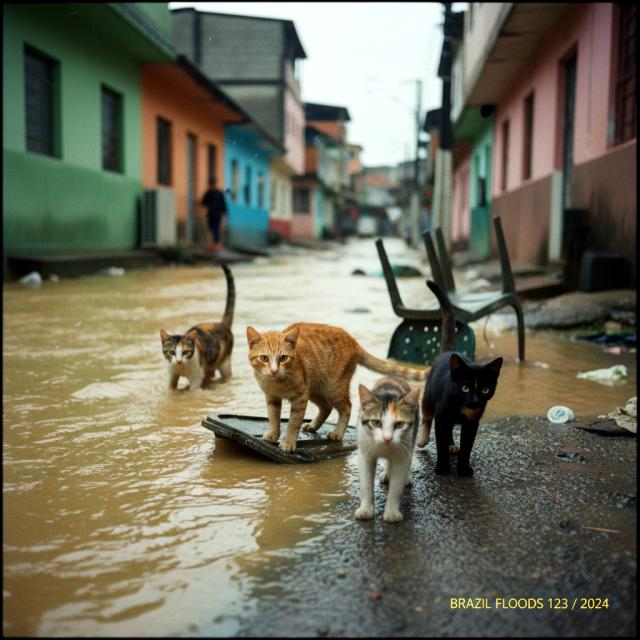cat: (243, 312, 433, 438), (425, 278, 501, 478), (346, 367, 427, 522), (157, 255, 244, 390)
civilian: (192, 175, 234, 249)
